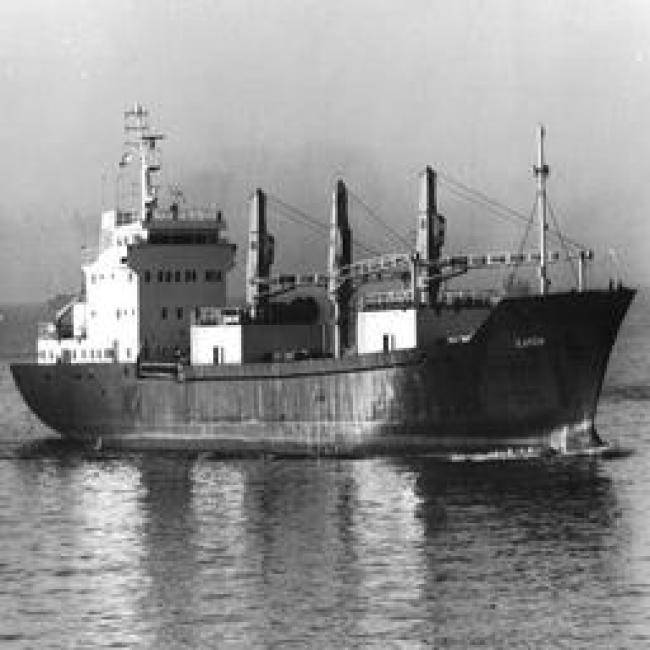Ship: (13, 166, 629, 472)
